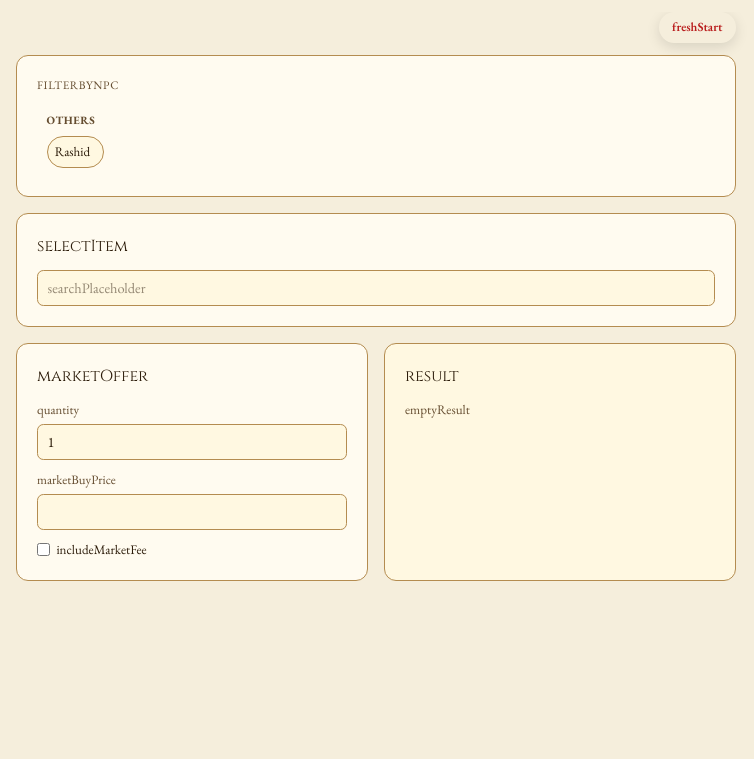
Test: TradeCalculator › calculates result when item and market price are filled
Type "gold" into the field with placeholder "searchPlaceholder". click: (376, 288)
box: [37,270,715,306]
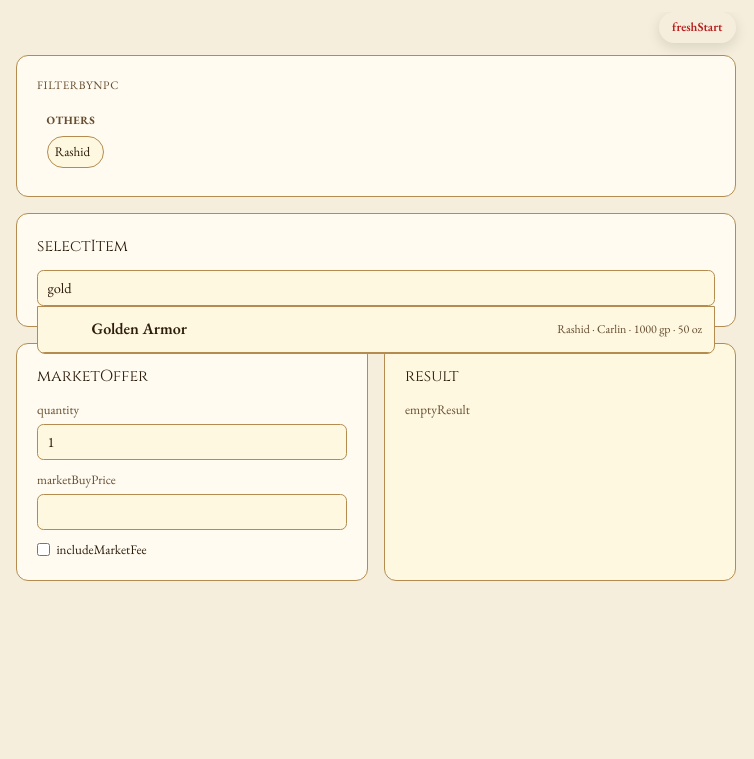
Click the text "Golden Armor". click: (139, 329)
box: [92,318,187,339]
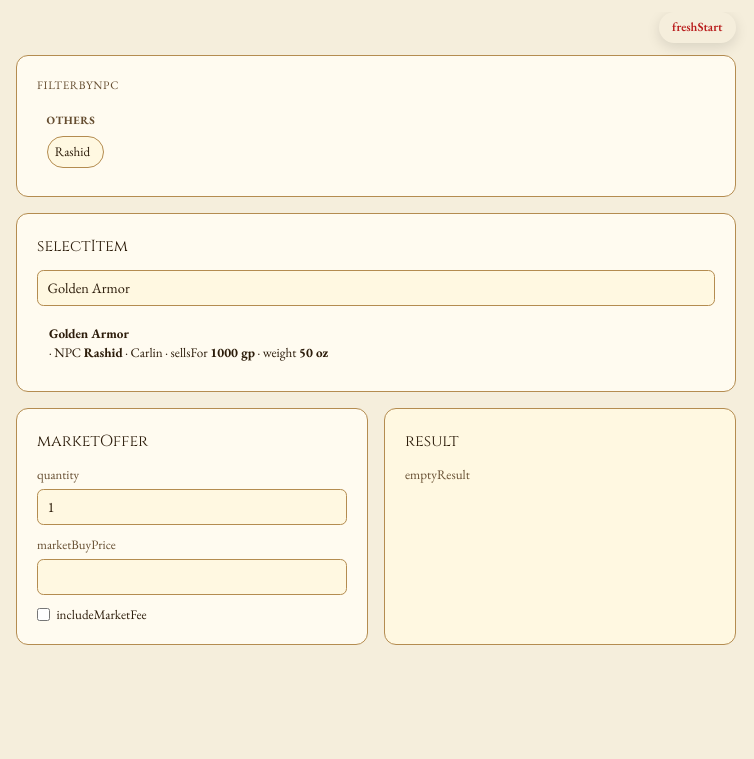
Replace the text in the number field labelled "quantity" with "2". click: (192, 507)
box: [37,489,347,525]
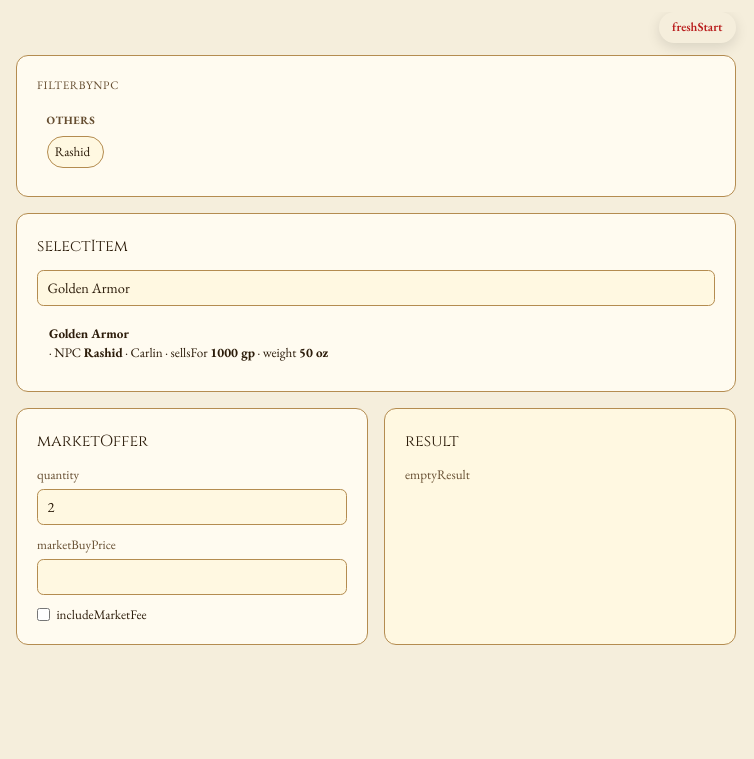
Type "1000" into the number field labelled "marketBuyPrice". click: (192, 577)
box: [37,559,347,595]
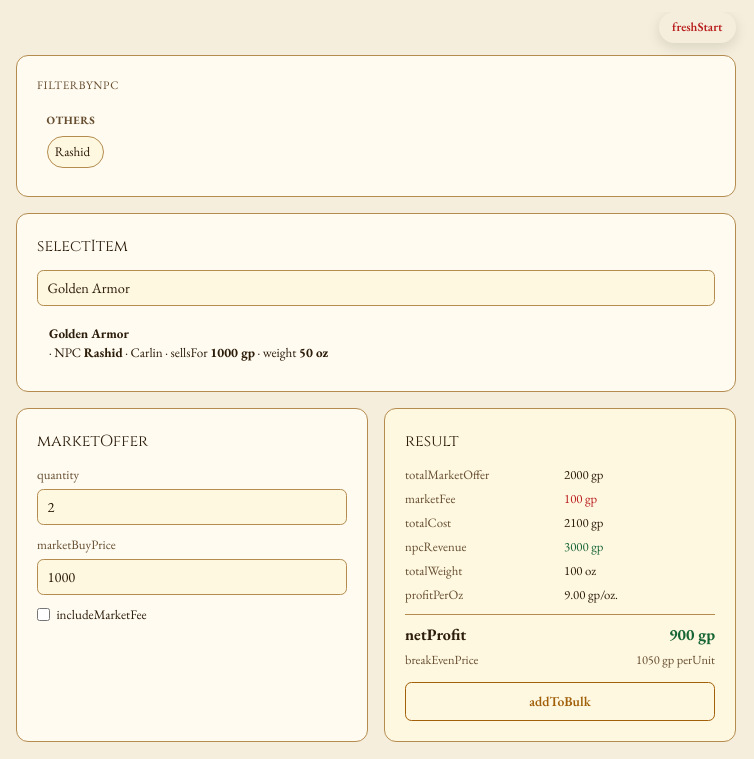
Check: the text "900 gp" is shown, box [669,623,715,647]
